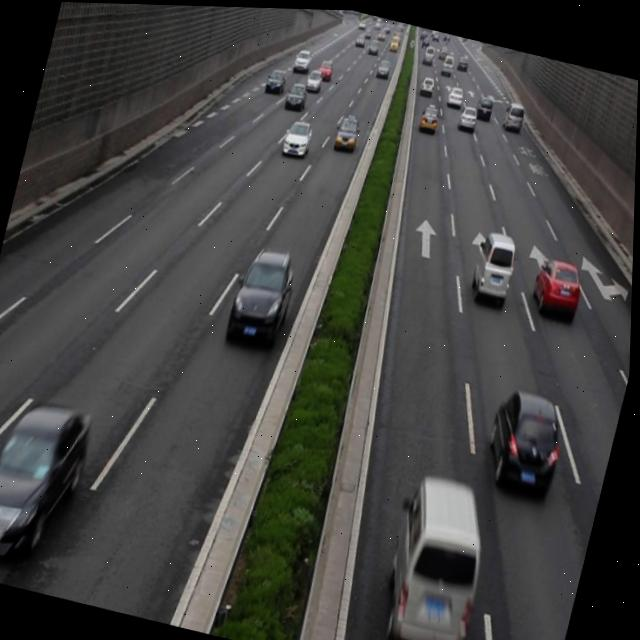car: (0, 388, 95, 571), (480, 381, 572, 497), (225, 238, 301, 348), (527, 248, 587, 320), (281, 114, 316, 157), (331, 110, 363, 152)
truck: (376, 467, 502, 640), (468, 226, 522, 305)
